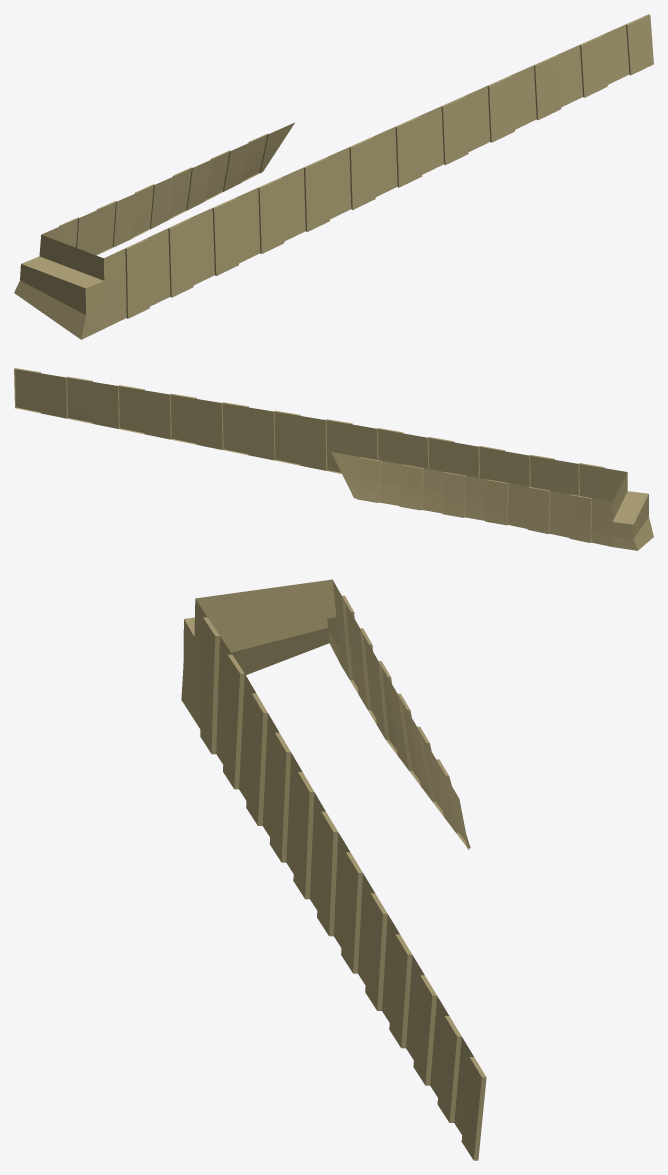
The model's file is bridge_holder3.fbx.
3 views of the same model, one above another, from view 1: azimuth 30°, elevation 25°; view 2: azimuth 150°, elevation 25°; view 3: azimuth 270°, elevation 25° (orthographic). The views are drawn at different scales.
Visible parts, largest first — view 1: bridge_holder3; view 2: bridge_holder3; view 3: bridge_holder3.
Part boxes in pixels (left/top/right/bottom): bridge_holder3: left=14, top=14, right=653, bottom=339; bridge_holder3: left=14, top=368, right=653, bottom=550; bridge_holder3: left=181, top=579, right=486, bottom=1160.
Size of the model in its own units: 1798 by 7969 by 1124.
